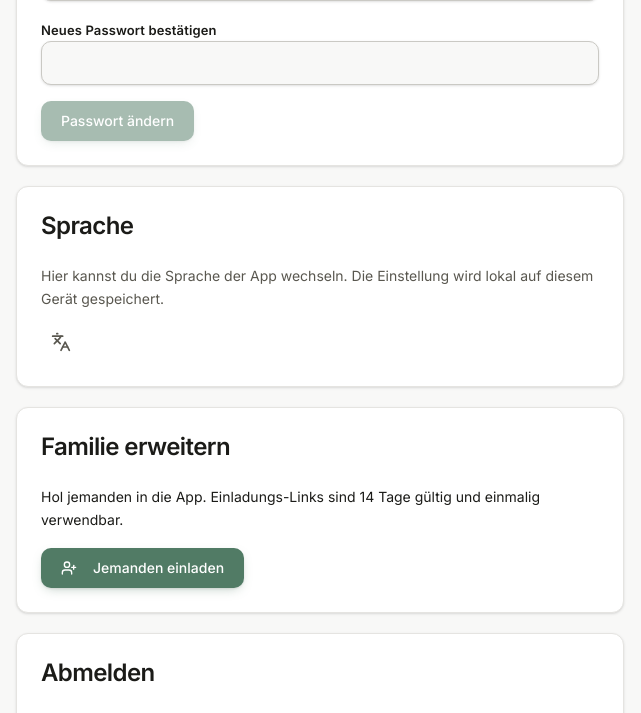
Scenario: <ProfilePage /> › language section (REL-3h) › clicking the toggle opens a DE/EN dropdown menu
(page scrolled)
Click the button named "sprache" at (61, 342), box 41,322 -> 81,362
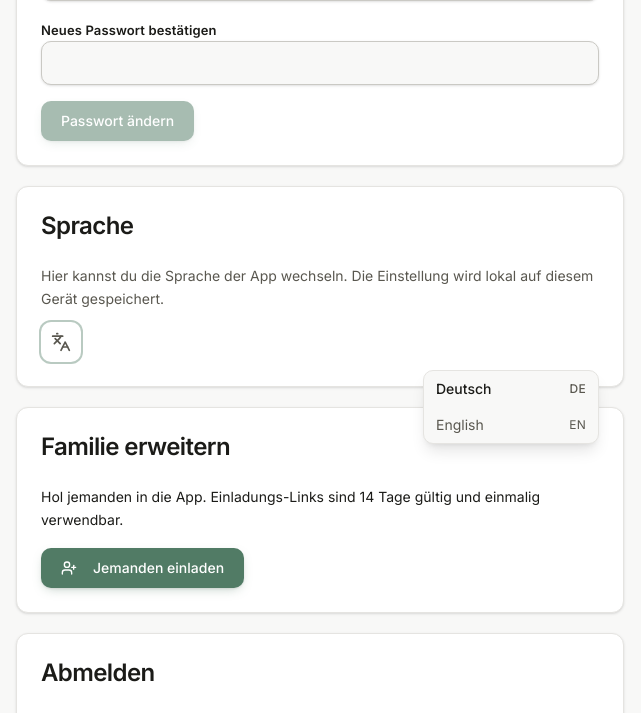
Check: the menu named "sprache" is shown, box 423,370 -> 599,444
Check: the menu item "Deutsch de" is shown, box 424,371 -> 598,407
Check: the menu item "English en" is shown, box 424,407 -> 598,443
